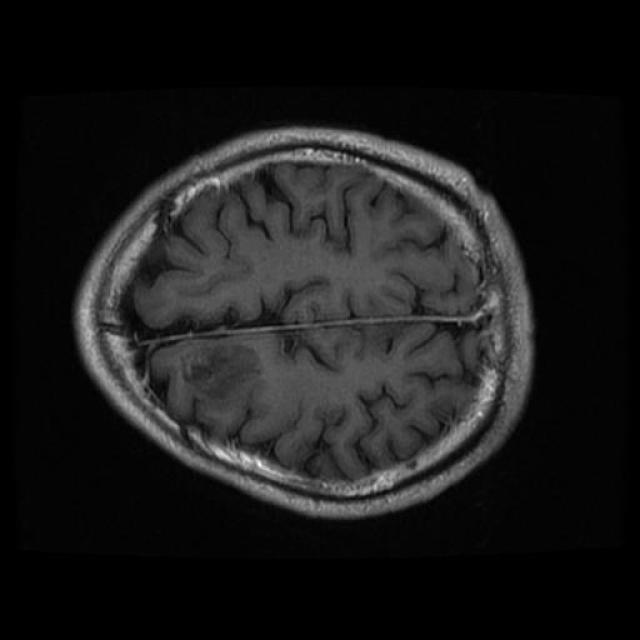Glioma: (185, 341, 260, 401)
